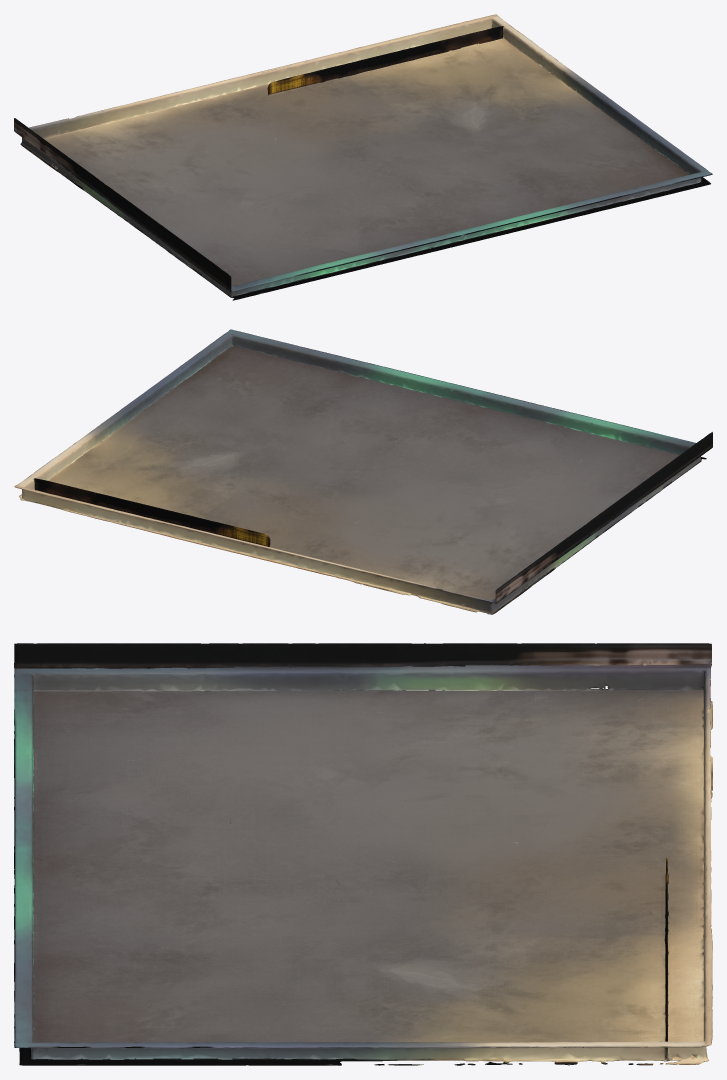
File: studentcafe_AmbientLightStrip.glb
The picture shows the model from 3 angles, top to bottom: view 1: azimuth 30°, elevation 25°; view 2: azimuth 150°, elevation 25°; view 3: azimuth 270°, elevation 25°; orthographic projection. The views are drawn at different scales.
Parts seen in each view (by area): view 1: world; view 2: world; view 3: world.
Part boxes in pixels (box(x1,y1,x2,y2)): world: box(14, 14, 712, 300); world: box(14, 329, 712, 614); world: box(14, 643, 712, 1065).
Bounding box in the file's own units: 1 × 0.055 × 0.7793.
1 material, 1 textured.
